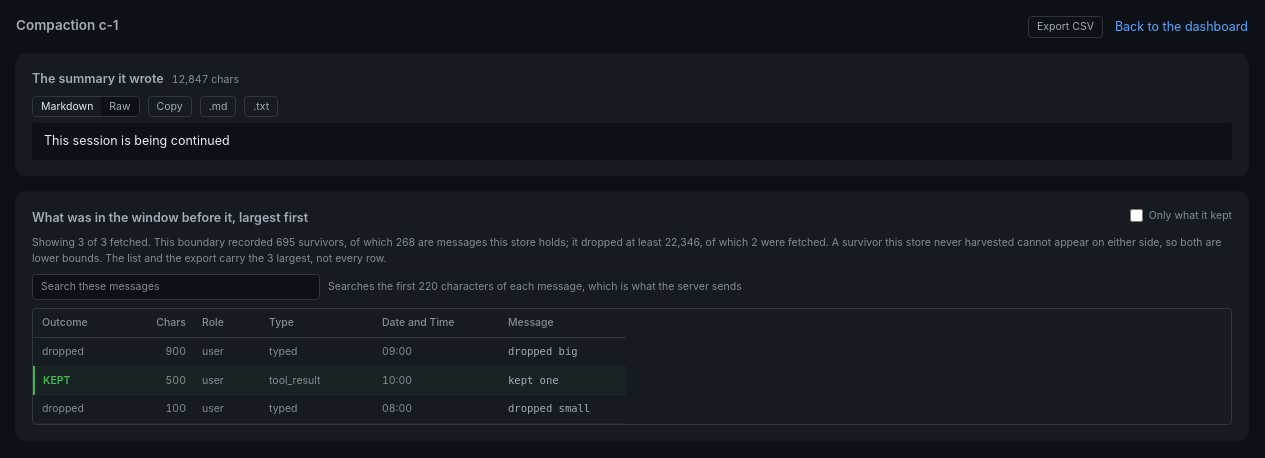
Scenario: a compaction, ordered by size with what survived marked › has a search box that says how much of the list it left, and what it read
Expected: the text "recorded 695 survivors" is shown, [32,235,1232,266]
Expected: the text "Searches the first 220 characters" is shown, [328,280,742,293]
Type "dropped small" into the search field named "Search the messages before this boundary" at {"x": 176, "y": 287}, box [32,274,320,300]
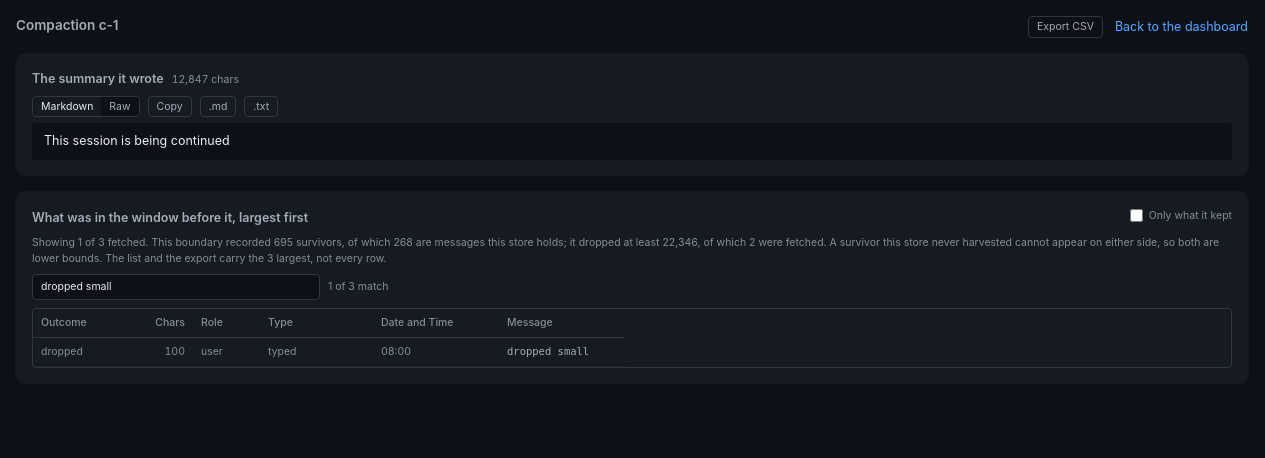
Expected: the row "dropped 100 user typed 08:00 dropped small" is shown, [33,337,625,366]
Expected: the text "1 of 3 match" is shown, [328,279,388,295]
